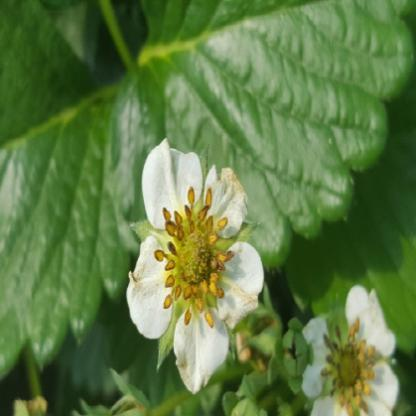Strawberry_Blossom_Blight: (153, 183, 239, 330)
